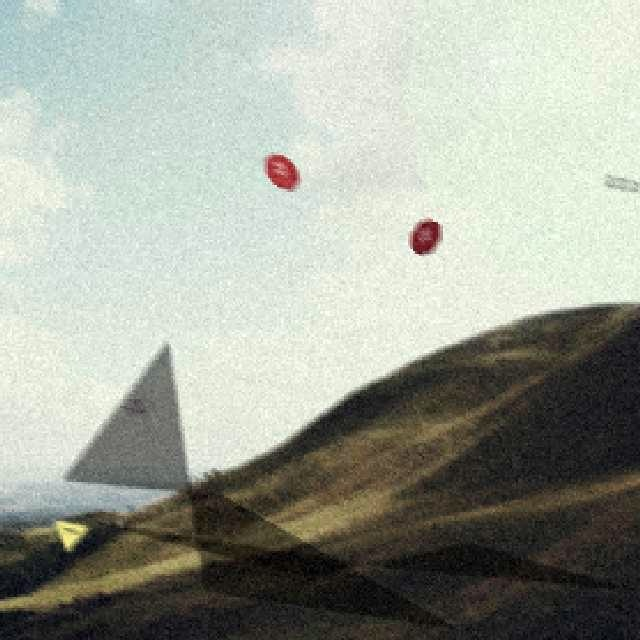DO_NOT_GO_AROUND: (116, 392, 153, 413)
FAKE_STOP: (262, 150, 297, 187), (407, 215, 438, 252)
ONE_WAY_ right: (601, 171, 638, 189)
YIELD: (51, 516, 88, 550)
